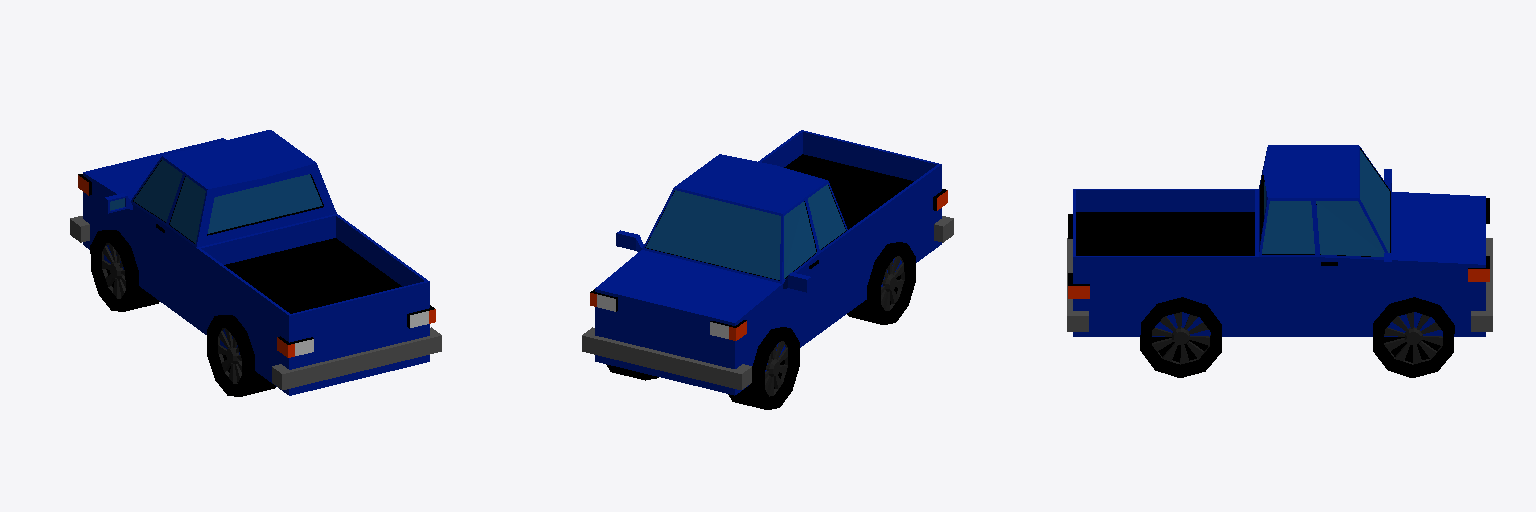
Rendered from pickUp.obj.
3 views of the same model, side by side, from view 1: azimuth 30°, elevation 25°; view 2: azimuth 150°, elevation 25°; view 3: azimuth 270°, elevation 25° (orthographic).
Visible parts, largest first — view 1: car001.004_Cube.006; view 2: car001.004_Cube.006; view 3: car001.004_Cube.006.
Boxes of the visible parts, x1,y1,x2,y2 form: car001.004_Cube.006: [70, 130, 441, 396]; car001.004_Cube.006: [582, 130, 953, 409]; car001.004_Cube.006: [1067, 145, 1492, 377].
Size of the model in its own units: 1.19 by 0.9997 by 2.29.